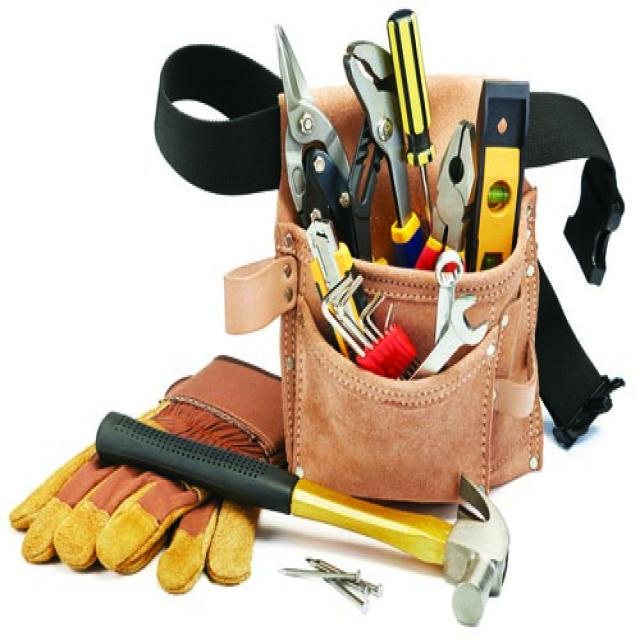Screwdriver: (388, 9, 435, 229)
